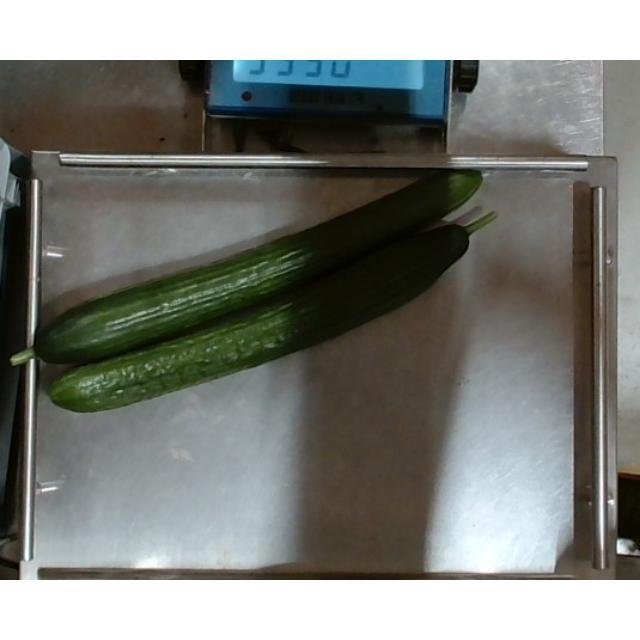cucumber: (1, 206, 499, 414), (1, 149, 483, 363)
